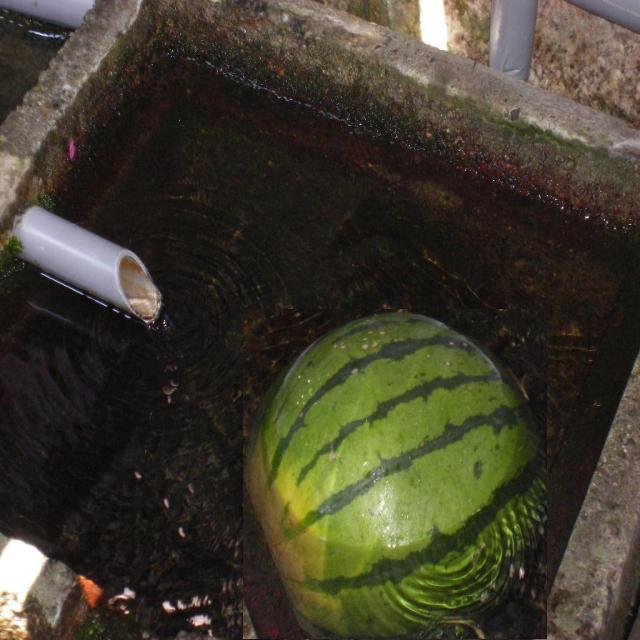Watermelon: (243, 309, 548, 639)
